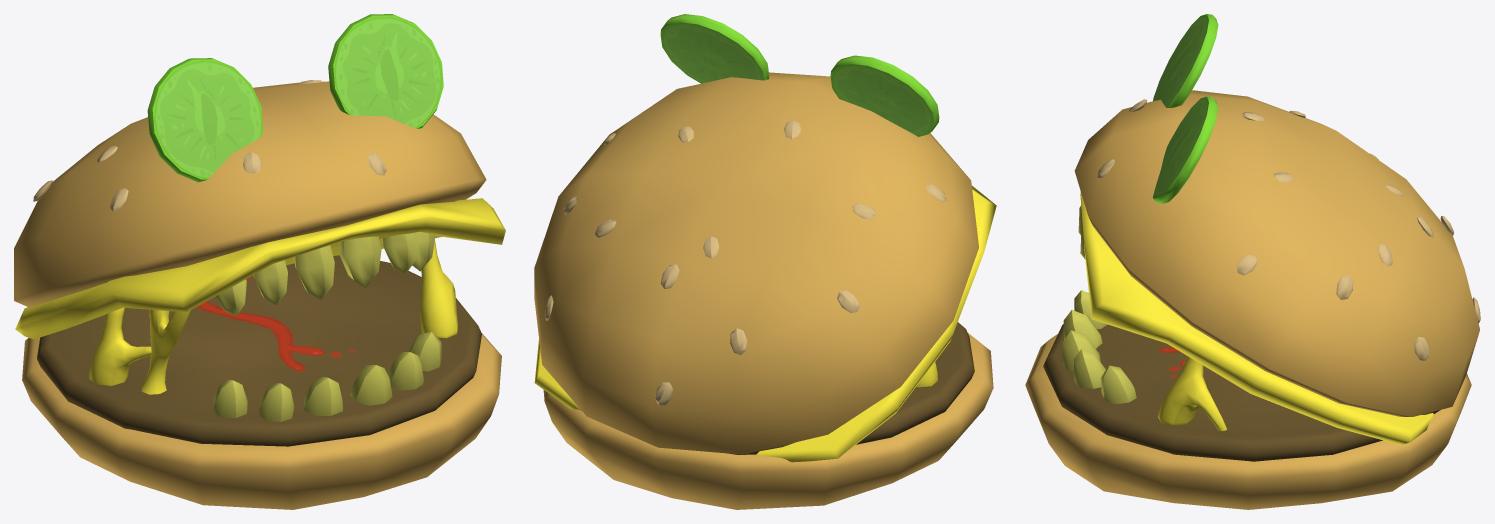
Rendered from BurgerSingleMat.fbx.
3 renders of one model, left to right at view 1: azimuth 30°, elevation 25°; view 2: azimuth 150°, elevation 25°; view 3: azimuth 270°, elevation 25°, orthographic. The views are drawn at different scales.
Parts seen in each view (by area): view 1: TopHalf, BottomHalf, CheeseStrands; view 2: TopHalf, BottomHalf; view 3: TopHalf, BottomHalf, CheeseStrands.
Part boxes in pixels (x1,y1,x2,y2): TopHalf: (14, 14, 505, 339); BottomHalf: (22, 255, 501, 509); CheeseStrands: (89, 240, 458, 394); TopHalf: (534, 14, 996, 462); BottomHalf: (543, 322, 993, 509); TopHalf: (1074, 14, 1480, 445); BottomHalf: (1025, 290, 1471, 509); CheeseStrands: (1158, 356, 1227, 431).
Bounding box in the file's own units: 16.22 × 15.23 × 16.34.
